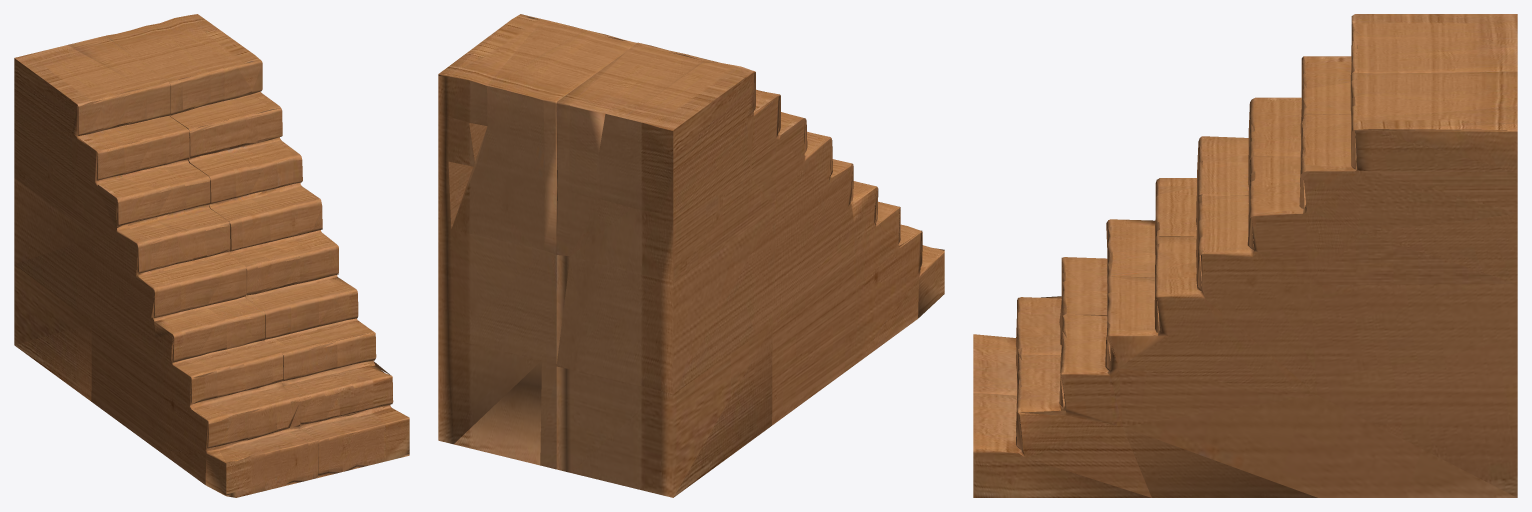
File: stairs-wood.glb
The picture shows the model from 3 angles, left to right: view 1: azimuth 30°, elevation 25°; view 2: azimuth 150°, elevation 25°; view 3: azimuth 270°, elevation 25°; orthographic projection. The views are drawn at different scales.
Size of the model in its own units: 2 by 3 by 4.
1 material, 1 textured.
